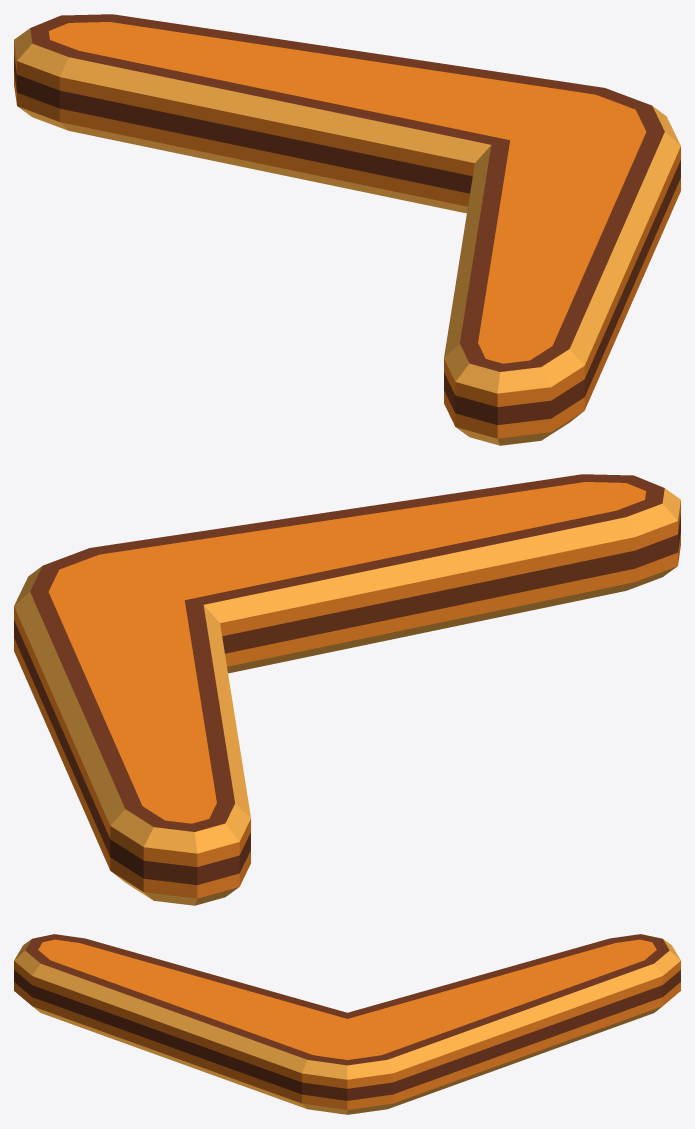
The model's file is boomerang.glb.
The picture shows the model from 3 angles, top to bottom: view 1: azimuth 30°, elevation 25°; view 2: azimuth 150°, elevation 25°; view 3: azimuth 270°, elevation 25°; orthographic projection. The views are drawn at different scales.
Parts seen in each view (by area): view 1: boomerang_core; view 2: boomerang_core; view 3: boomerang_core.
Boxes of the visible parts, x1,y1,x2,y2 form: boomerang_core: [14, 14, 680, 445]; boomerang_core: [14, 474, 680, 905]; boomerang_core: [14, 934, 680, 1114].
Bounding box in the file's own units: 1.1 × 0.18 × 2.2.
